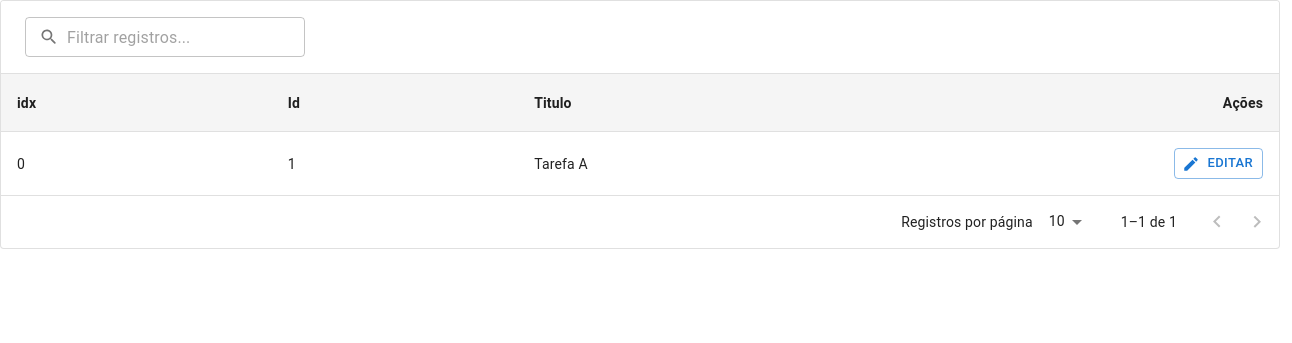
Scenario: ExternalScreen — submit do edit (st-4) › erro HTTP no submit exibe Alert de erro sem crash
Click the button "Editar".
click(1218, 164)  # box [1174,148,1263,179]
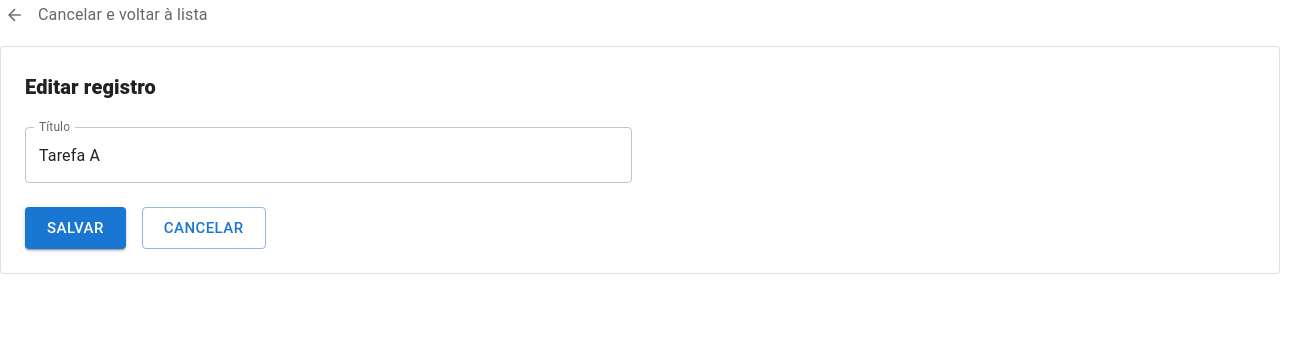
expect the heading "Editar registro" is shown: met, box [25,75,156,99]
Replace the text in the field showing "Tarefa A" with "X" at (328, 155), box [25,127,632,183]
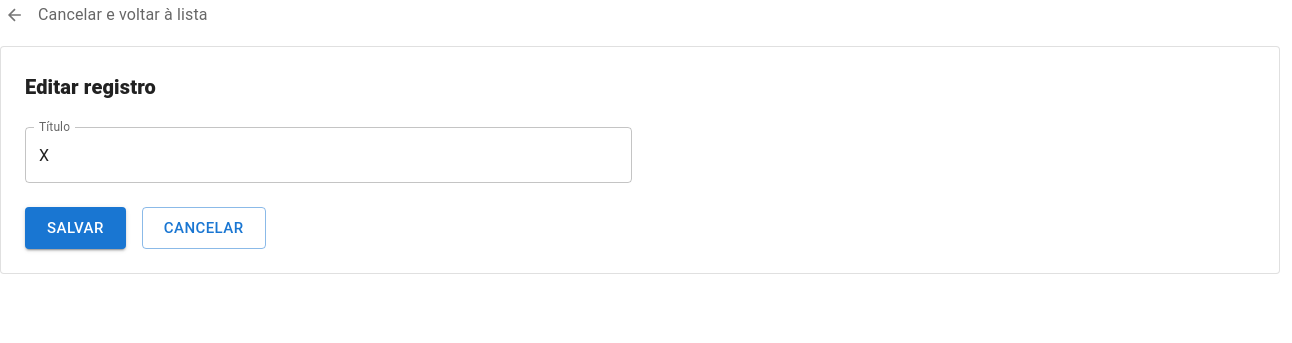
Click the button "Salvar".
click(75, 228)  # box [25,207,126,249]
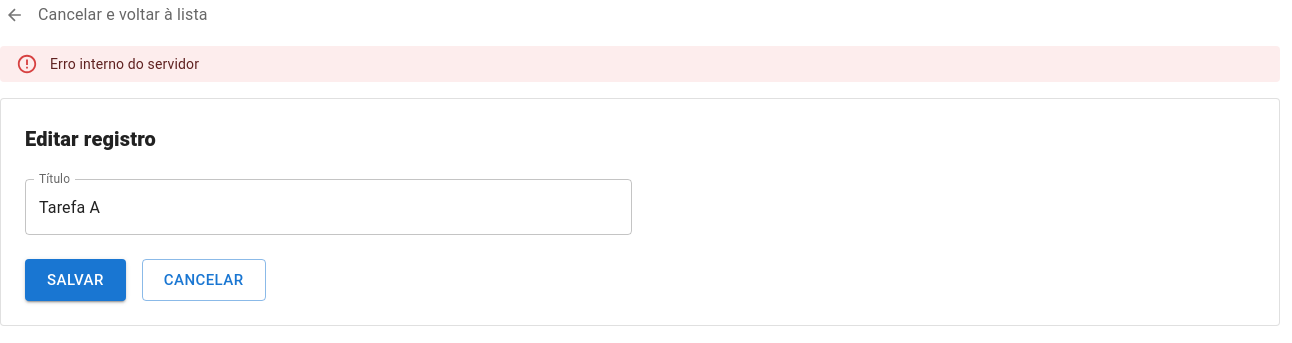
expect the heading "Editar registro" is shown: met, box [25,127,156,151]
expect the text "Erro interno do servidor" is shown: met, box [50,56,199,72]
